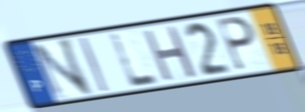2: (184, 20, 233, 79)
H: (141, 23, 200, 84)
I: (77, 36, 111, 94)
L: (108, 31, 162, 90)
N: (29, 35, 96, 103)
P: (215, 15, 259, 73)
